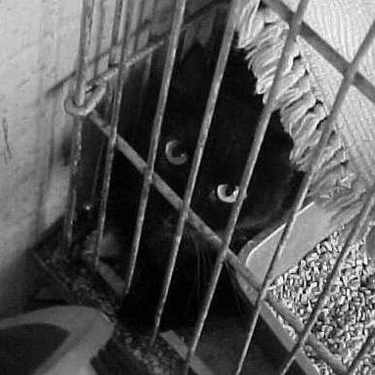cat: (90, 5, 293, 324)
